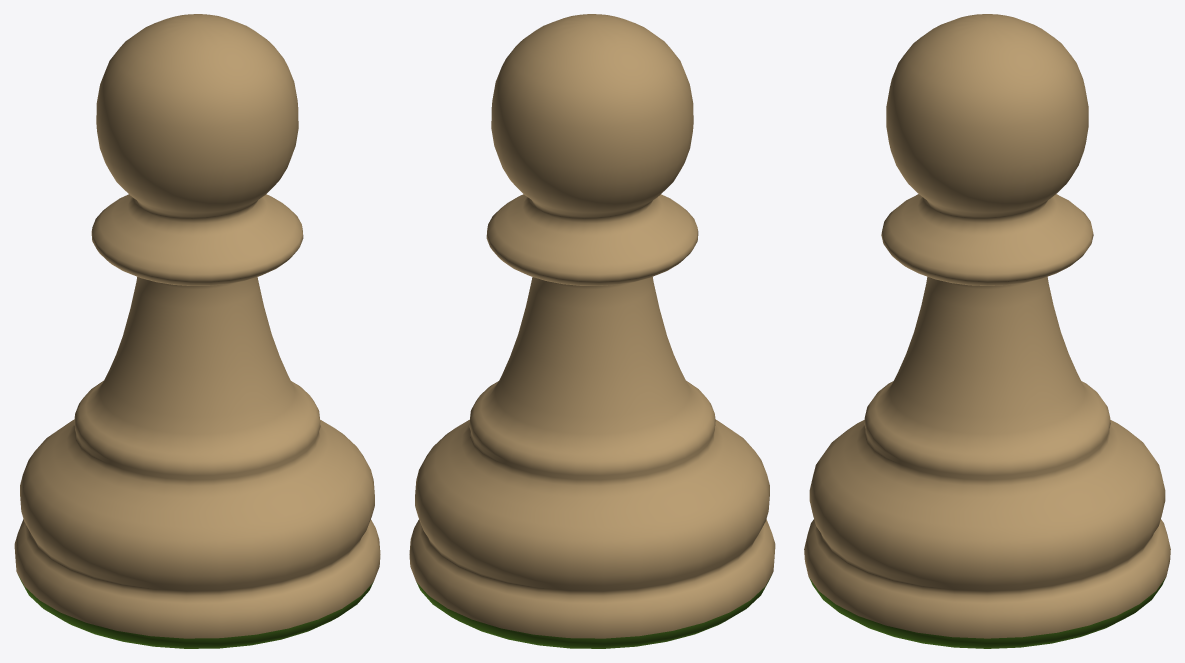
File: whitepawn.glb
3 renders of one model, left to right at view 1: azimuth 30°, elevation 25°; view 2: azimuth 150°, elevation 25°; view 3: azimuth 270°, elevation 25°, orthographic.
Parts seen in each view (by area): view 1: whitepawn; view 2: whitepawn; view 3: whitepawn.
Boxes of the visible parts, x1=… form: whitepawn: x1=14, y1=14, x2=380, y2=648; whitepawn: x1=409, y1=14, x2=775, y2=648; whitepawn: x1=804, y1=14, x2=1170, y2=648.
Size of the model in its own units: 0.5151 by 0.8827 by 0.5151.
